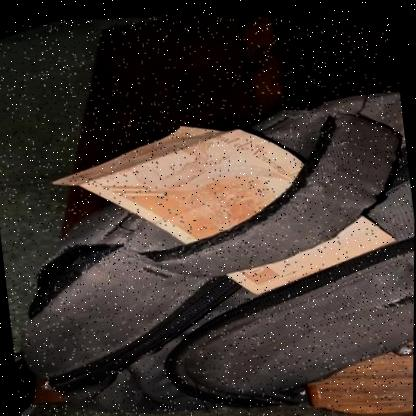twenty-back-vef: (50, 90, 406, 321)
